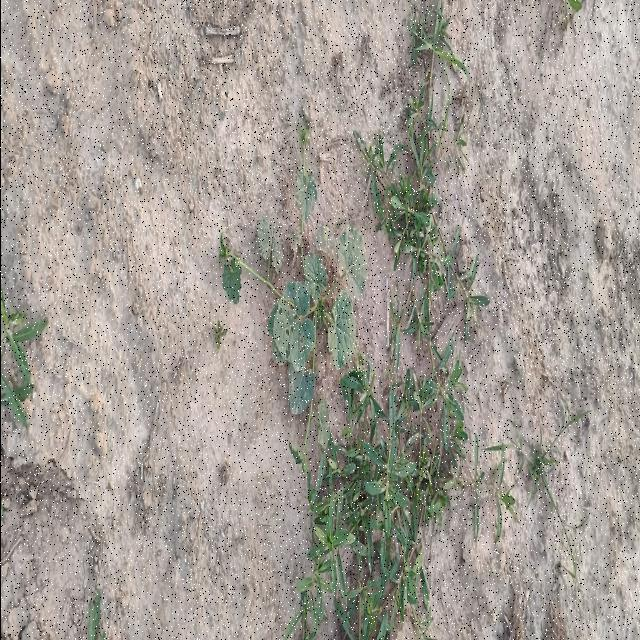plant: (218, 220, 365, 416), (295, 158, 315, 232)
